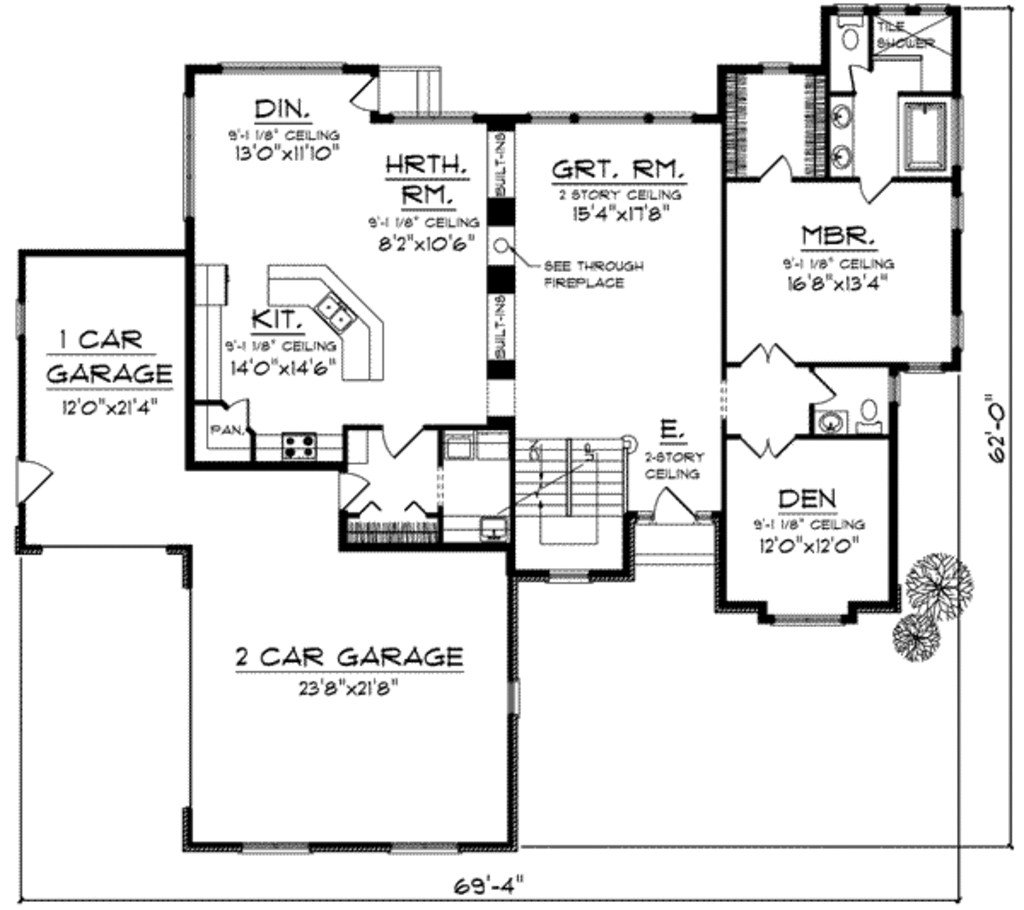door: (12, 450, 56, 513), (649, 487, 696, 530), (731, 433, 792, 463), (741, 342, 796, 374), (346, 72, 382, 117), (807, 363, 837, 408), (753, 154, 793, 187)
kitchen_bar: (261, 260, 394, 387)
large_sink: (855, 389, 885, 440), (830, 16, 863, 56)
small_sink: (821, 91, 859, 180)
stairs: (510, 434, 628, 571)
tub: (895, 91, 950, 179)
windows: (520, 106, 696, 131), (216, 57, 353, 82), (178, 88, 196, 218), (762, 610, 845, 631), (373, 840, 464, 858), (231, 840, 320, 857), (542, 560, 592, 588), (946, 300, 970, 355), (948, 184, 969, 236), (504, 673, 523, 722), (10, 300, 28, 349)
